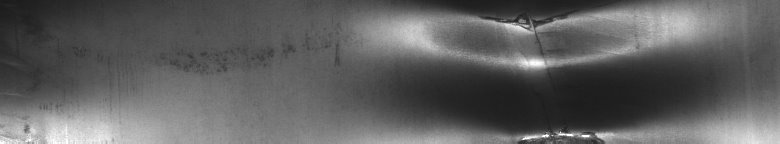ke: (452, 4, 634, 136)
